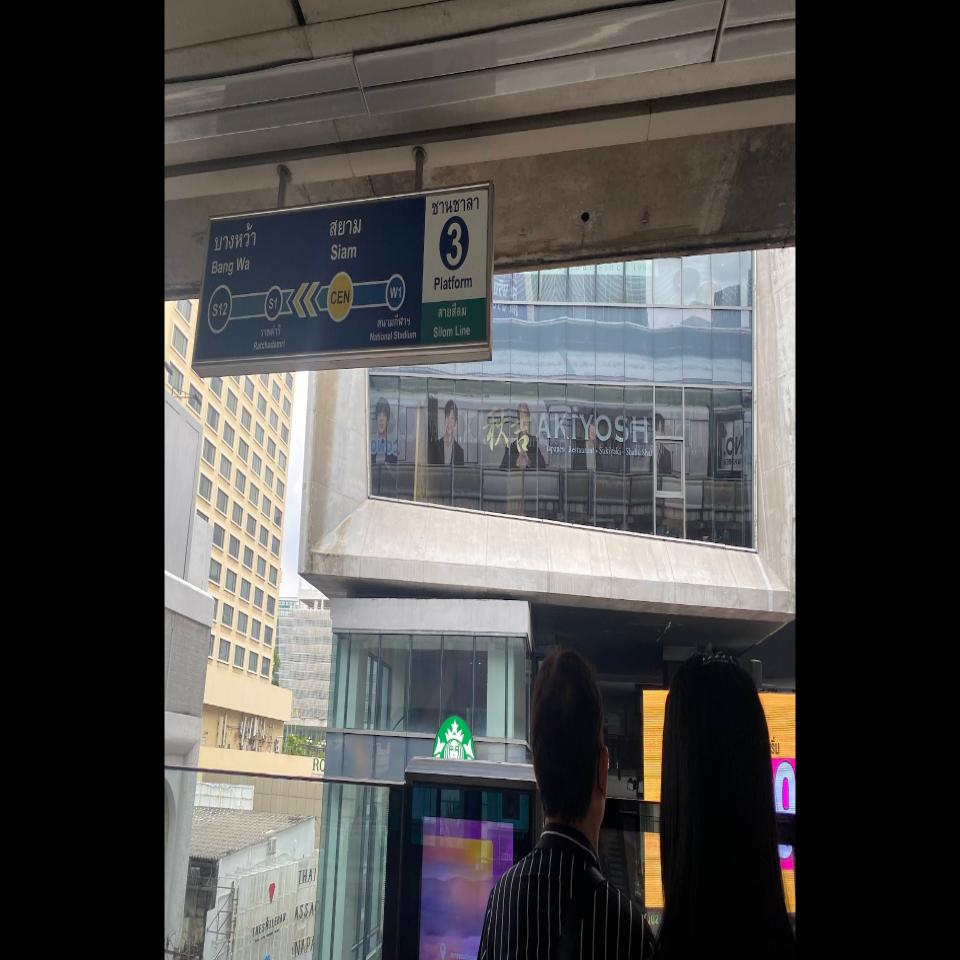Siam: (264, 218, 406, 322)
